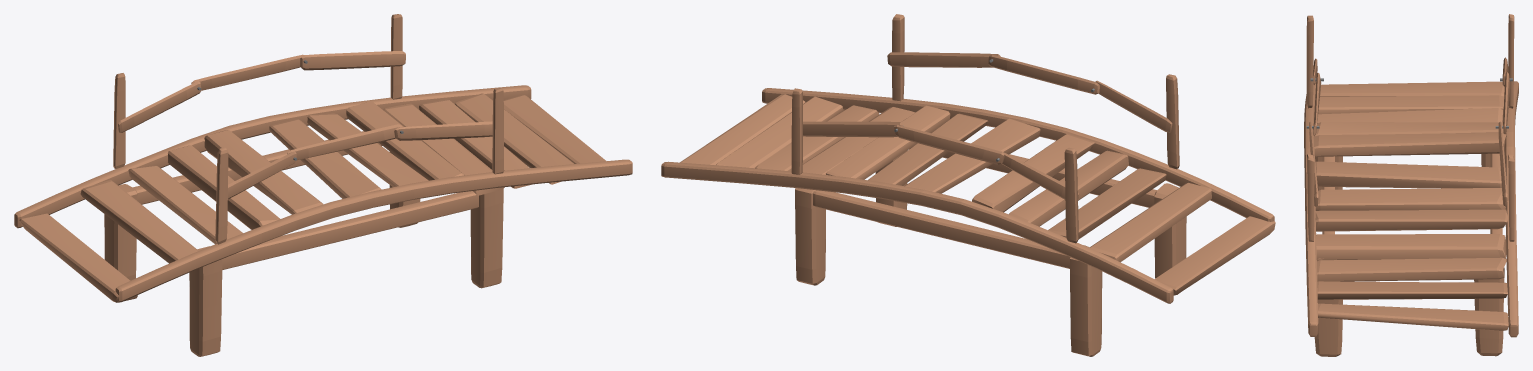
The model's file is bridge.glb.
3 views of the same model, side by side, from view 1: azimuth 30°, elevation 25°; view 2: azimuth 150°, elevation 25°; view 3: azimuth 270°, elevation 25° (orthographic).
Visible parts, largest first — view 1: Set_01:Set_01:Bridge; view 2: Set_01:Set_01:Bridge; view 3: Set_01:Set_01:Bridge.
Part boxes in pixels (box(x1,y1,x2,y2)): Set_01:Set_01:Bridge: box(14, 14, 632, 356); Set_01:Set_01:Bridge: box(661, 14, 1275, 356); Set_01:Set_01:Bridge: box(1304, 14, 1518, 356).
Bounding box in the file's own units: 1.54 × 0.5965 × 0.5652.
